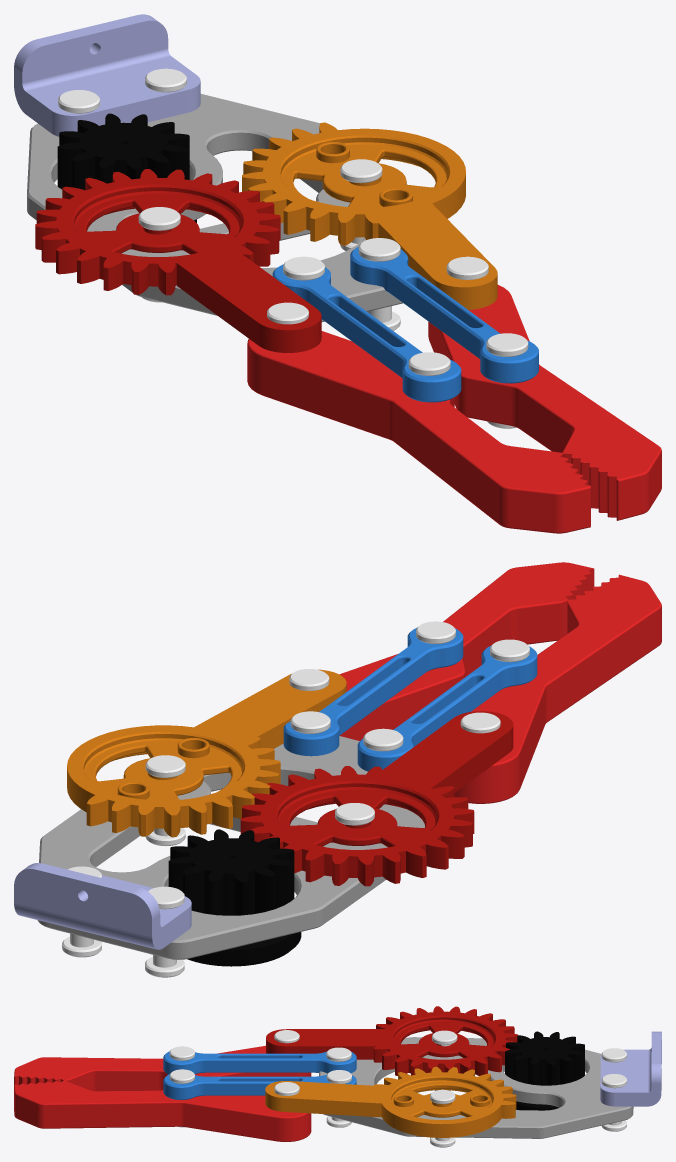
The model's file is Robot_Gripper.glb.
3 renders of one model, top to bottom at view 1: azimuth 30°, elevation 25°; view 2: azimuth 150°, elevation 25°; view 3: azimuth 270°, elevation 25°, orthographic. The views are drawn at different scales.
Parts seen in each view (by area): view 1: Gear-link-1, Gripper, Solid1, Gripper.001, Base-Mounting_bracket, Base-Plate, Base-Gear, Link, Link.001, Pin.003, Pin.007, Pin (+7 smaller); view 2: Gear-link-1, Solid1, Base-Plate, Gripper, Gripper.001, Base-Gear, Base-Mounting_bracket, Link, Link.001, Pin.008, Pin.007, Pin.009 (+7 smaller); view 3: Gripper.001, Solid1, Gear-link-1, Base-Plate, Gripper, Base-Gear, Link.001, Base-Mounting_bracket, Link, Pin.007, Pin.009, Pin.003 (+7 smaller).
Boxes of the visible parts, x1,y1,x2,y2 form: Gear-link-1: [35, 169, 321, 352]; Gripper: [247, 331, 590, 533]; Solid1: [242, 122, 497, 309]; Gripper.001: [428, 285, 661, 520]; Base-Mounting_bracket: [14, 14, 200, 136]; Base-Plate: [27, 94, 402, 321]; Base-Gear: [57, 113, 196, 222]; Link: [350, 246, 538, 383]; Link.001: [272, 264, 461, 402]; Pin.003: [358, 238, 400, 330]; Pin.007: [340, 159, 382, 251]; Pin: [486, 333, 528, 428]; Gear-link-1: [240, 711, 513, 886]; Solid1: [67, 669, 346, 837]; Base-Plate: [37, 736, 424, 959]; Gripper: [454, 574, 661, 803]; Gripper.001: [339, 562, 594, 740]; Base-Gear: [168, 829, 301, 966]; Base-Mounting_bracket: [14, 863, 191, 949]; Link: [283, 628, 463, 756]; Link.001: [357, 646, 537, 771]; Pin.008: [145, 886, 184, 977]; Pin.007: [145, 755, 185, 845]; Pin.009: [62, 866, 101, 957]; Gripper.001: [14, 1080, 311, 1141]; Solid1: [265, 1066, 516, 1137]; Gear-link-1: [266, 1006, 517, 1075]; Base-Plate: [319, 1037, 633, 1138]; Gripper: [14, 1045, 311, 1091]; Base-Gear: [505, 1031, 584, 1110]; Link.001: [163, 1051, 356, 1074]; Base-Mounting_bracket: [600, 1031, 661, 1106]; Link: [163, 1074, 356, 1099]; Pin.007: [430, 1089, 455, 1147]; Pin.009: [601, 1074, 626, 1131]; Pin.003: [326, 1070, 351, 1127].
Bounding box in the file's own units: 0.0549 × 0.0152 × 0.1273.
